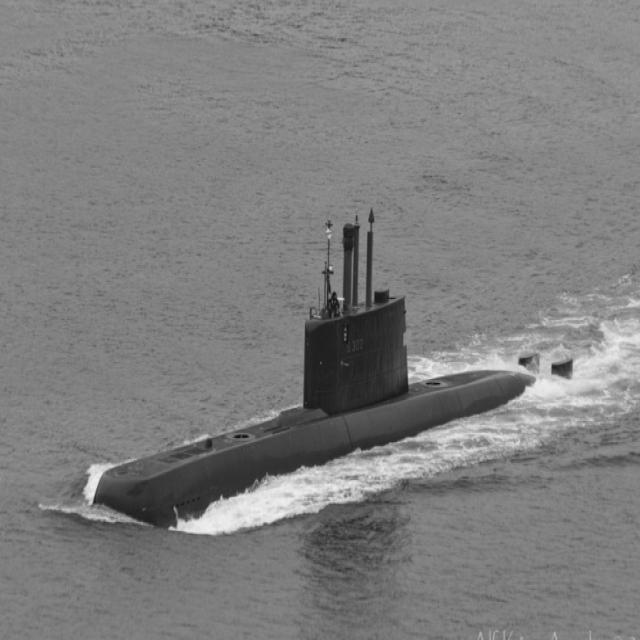submarine: (92, 205, 577, 542)
